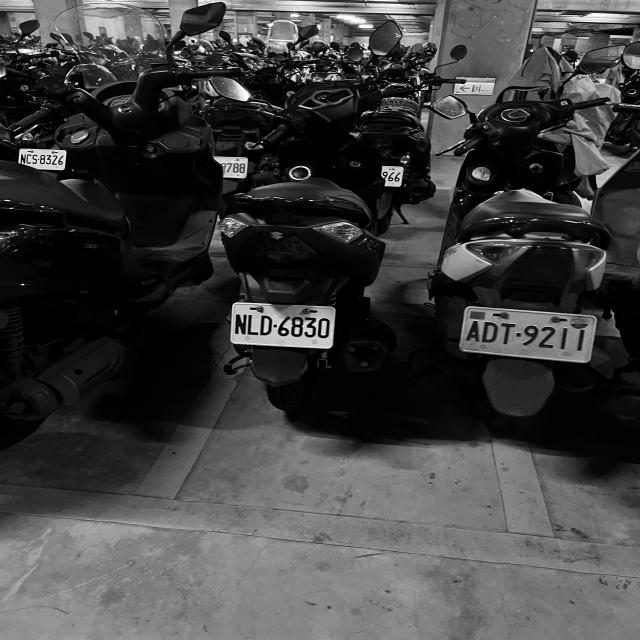-: (515, 332, 523, 338), (273, 324, 277, 328), (38, 158, 40, 160)
0: (318, 318, 330, 340)
1: (576, 328, 584, 352), (560, 327, 567, 350)
2: (540, 324, 556, 349), (52, 155, 58, 165)
3: (304, 316, 316, 338), (46, 154, 51, 164)
6: (278, 316, 291, 336), (58, 156, 64, 166), (394, 172, 400, 182), (388, 172, 394, 182)
7: (226, 162, 232, 172)
8: (291, 316, 303, 338), (240, 163, 246, 174), (40, 154, 46, 164), (232, 163, 238, 173)
9: (522, 324, 538, 346)
A: (466, 320, 481, 342)
C: (26, 154, 32, 164)
D: (482, 320, 498, 342), (260, 314, 272, 336)
L: (248, 314, 259, 336)
N: (234, 313, 246, 335), (20, 154, 26, 164)
P: (18, 148, 68, 170)
S: (32, 154, 38, 164)
T: (501, 321, 516, 345)
plate: (467, 310, 592, 360), (234, 304, 332, 348)
